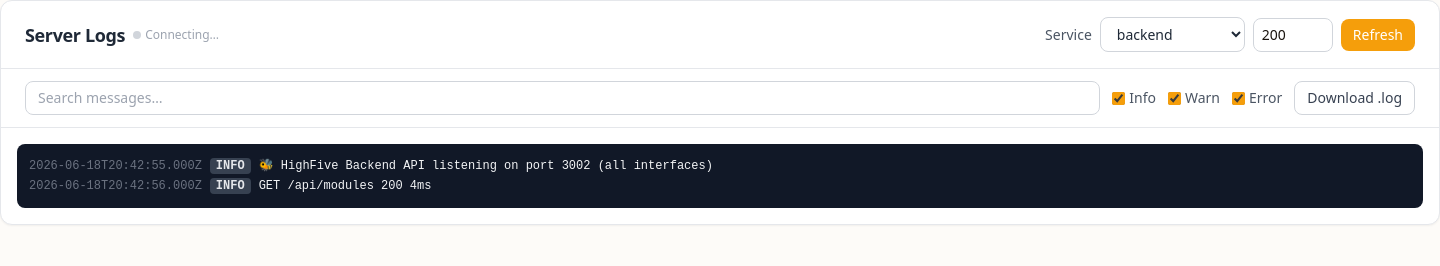
Scenario: ServerLogsPanel (#171/#178) › refetches the selected service when the dropdown changes
The width and height of the screenshot is (1440, 266).
expect the text "HighFive Backend API listening" is shown: met, box [259,159,713,173]
Select "duckdb-service" in the dropdown with test id "log-service-select": (1172, 34) [1100,17,1245,52]
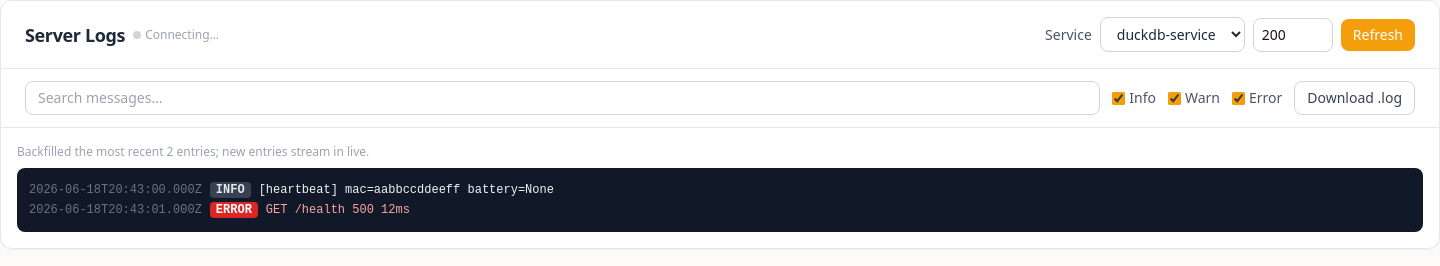
expect the element with test id "server-logs-output" shows "[heartbeat] mac=aabbccddeeff": met, box [259,183,554,197]
expect the text "Backfilled the most recent" is shown: met, box [17,143,167,160]
